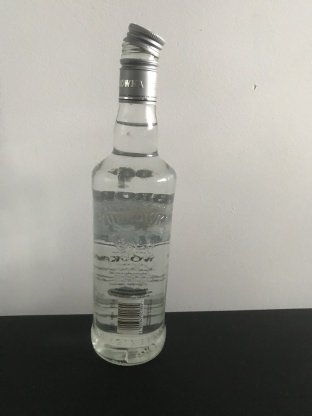nakretka: (117, 20, 166, 106)
